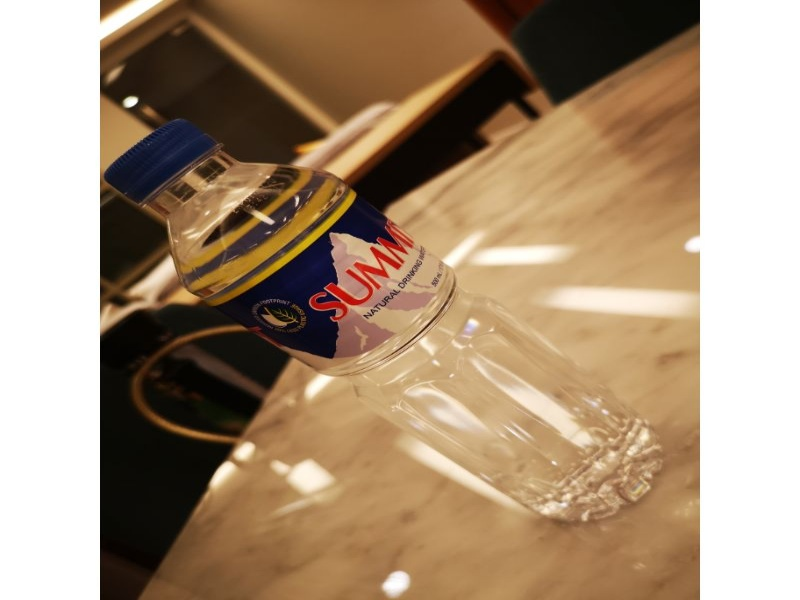PET #1: (104, 111, 664, 525)
